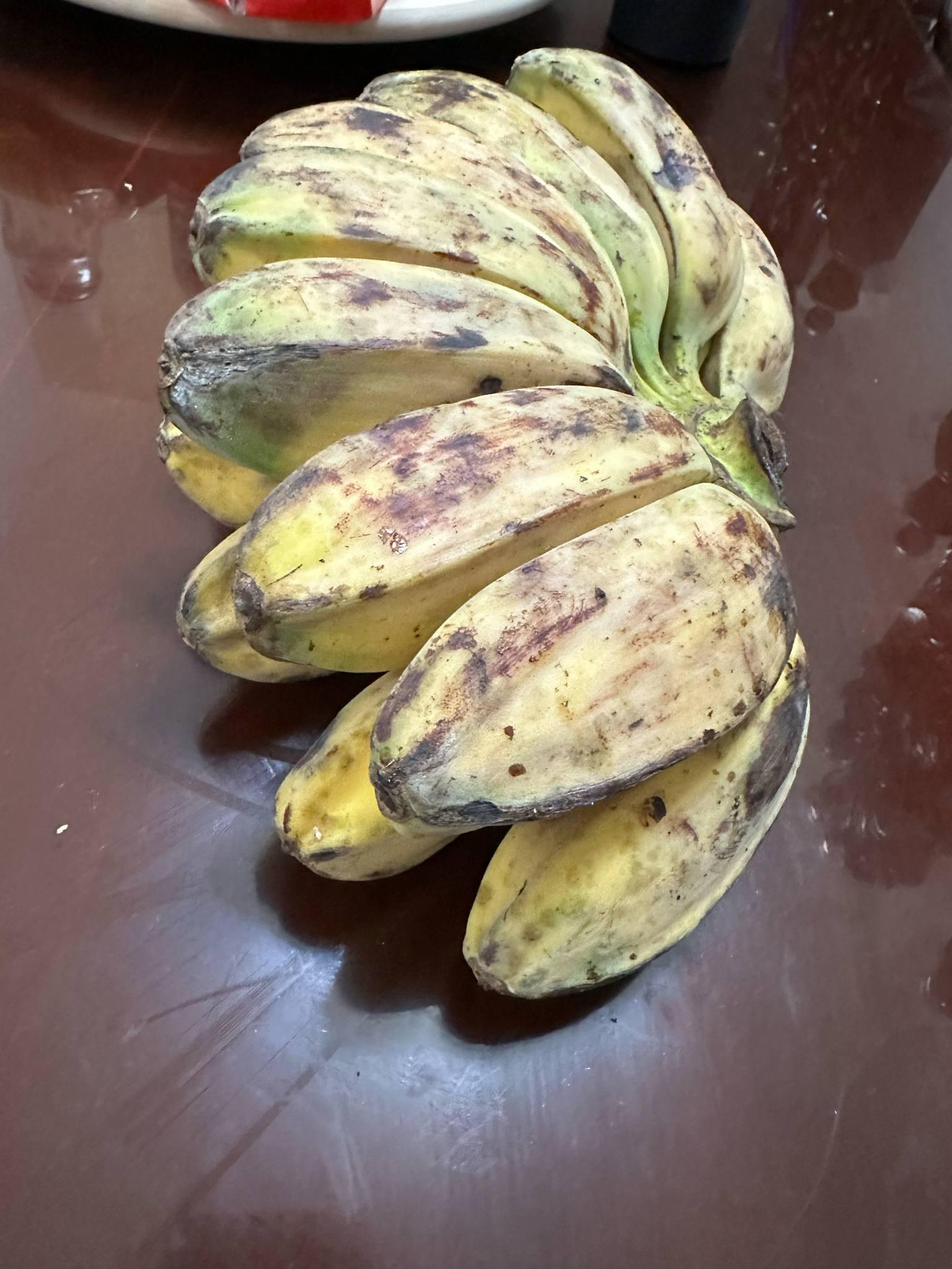underripe: (158, 48, 812, 999)
